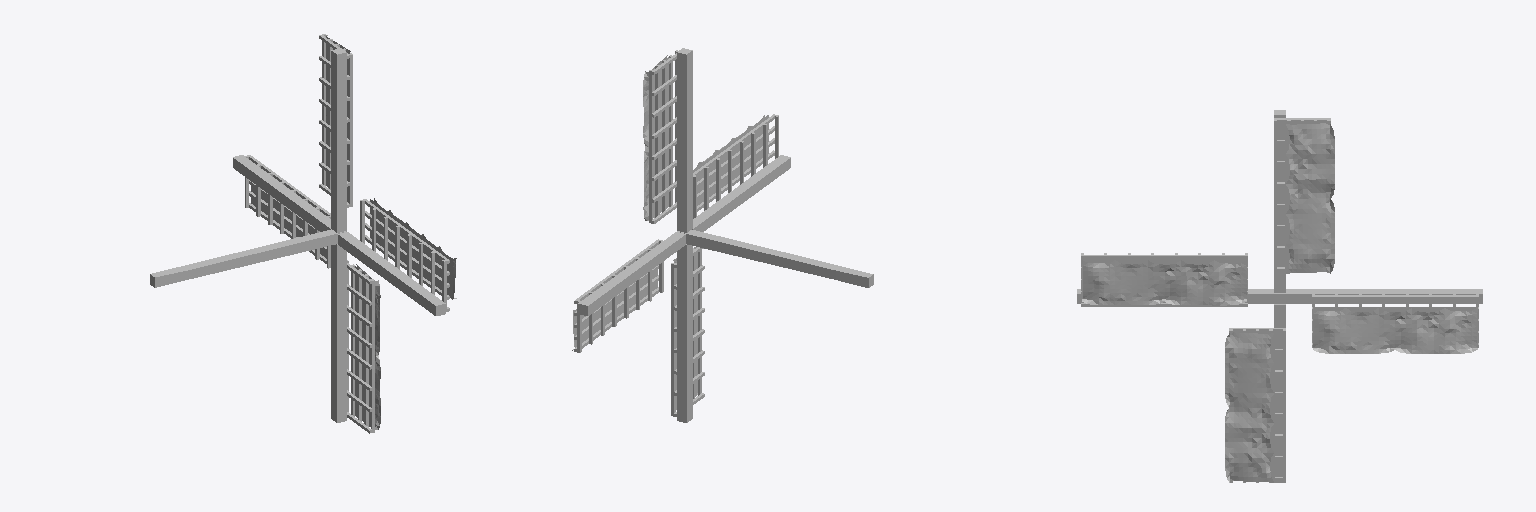
File: bladesalt.obj
3 renders of one model, left to right at view 1: azimuth 30°, elevation 25°; view 2: azimuth 150°, elevation 25°; view 3: azimuth 270°, elevation 25°, orthographic.
Visible parts, largest first — view 1: blades_uv.002; view 2: blades_uv.002; view 3: blades_uv.002.
Boxes of the visible parts, <box> form: blades_uv.002: <box>150,34,456,433</box>; blades_uv.002: <box>572,48,873,422</box>; blades_uv.002: <box>1077,110,1482,482</box>.
Bounding box in the file's own units: 4.55 × 7.75 × 7.75.